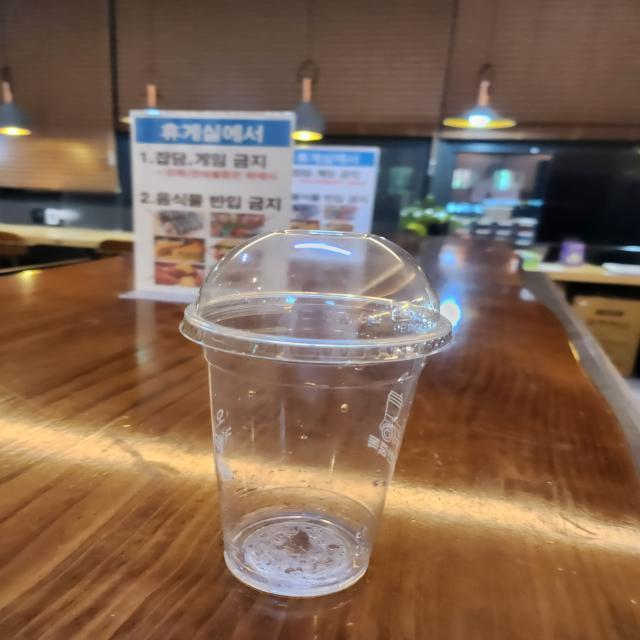plastic_cup_lid: (173, 210, 463, 368)
